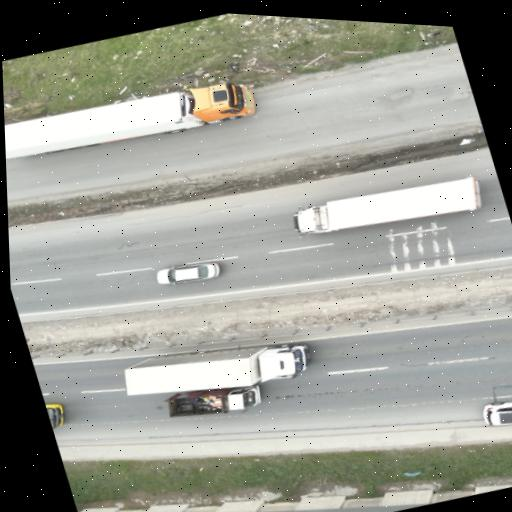bus: (45, 403, 63, 428)
car: (157, 262, 220, 283), (483, 401, 511, 425)
truck: (5, 82, 255, 157), (294, 176, 481, 235), (125, 343, 309, 394), (166, 385, 260, 416)
